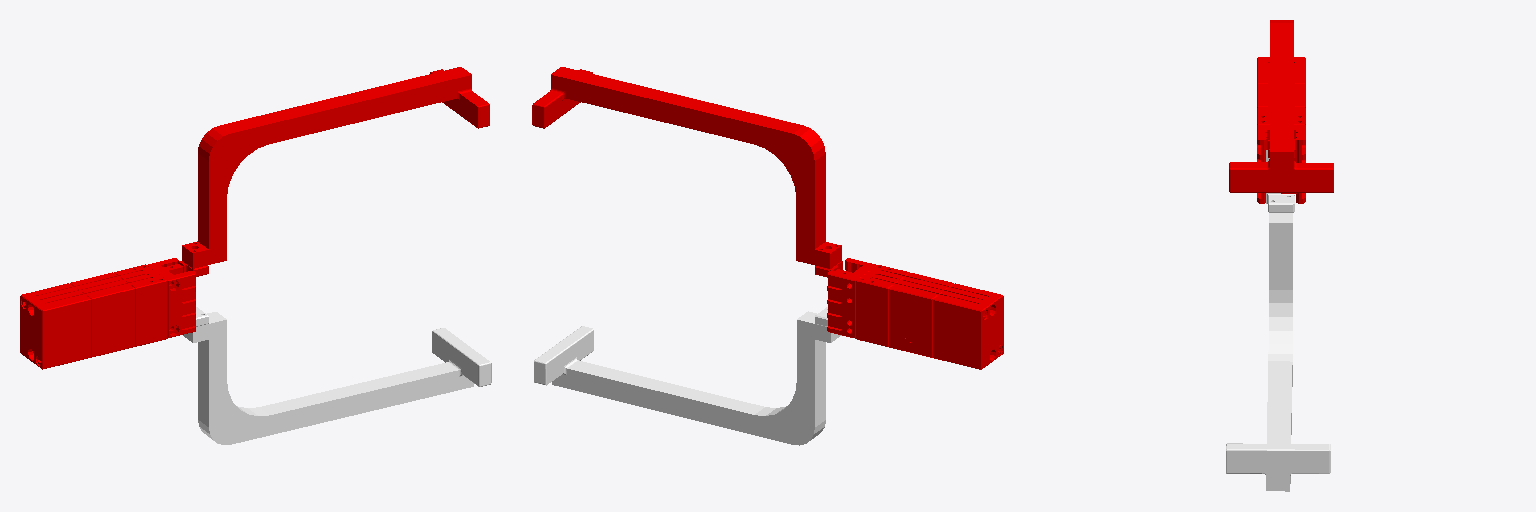
URDF robot description (kuka_kr3r540):
<?xml version="1.0" ?>
<!-- =================================================================================== -->
<!-- |    This document was autogenerated by xacro from kr3r540.xacro                  | -->
<!-- |    EDITING THIS FILE BY HAND IS NOT RECOMMENDED                                 | -->
<!-- =================================================================================== -->
<robot name="kuka_kr3r540" xmlns:controller="http://playerstage.sourceforge.net/gazebo/xmlschema/#controller" xmlns:interface="http://playerstage.sourceforge.net/gazebo/xmlschema/#interface" xmlns:sensor="http://playerstage.sourceforge.net/gazebo/xmlschema/#sensor">
    <!-- colours based on RAL values given in "FAQ - Colours of robot and robot
       controller", version "KUKA.Tifs | 2010-01-21 |YM| DefaultColorsRobotAndController.doc",
       downloaded 2015-07-18 from
       http://www.kuka.be/main/cservice/faqs/hardware/DefaultColorsRobotAndController.pdf

       all RAL colours converted using http://www.visual-graphics.de/en/customer-care/ral-colours
  -->
    <link name="base_link">
        <visual>
            <origin rpy="0 0 0" xyz="0 0 0" />
            <geometry>
                <mesh filename="package://kuka_kr3_support/meshes/kr3r540/visual/base_link.stl" />
            </geometry>
            <material name="">
                <color rgba="0.5058823529411764 0.47058823529411764 0.38823529411764707 1.0" />
            </material>
        </visual>
        <collision>
            <origin rpy="0 0 0" xyz="0 0 0" />
            <geometry>
                <mesh filename="package://kuka_kr3_support/meshes/kr3r540/collision/base_link.stl" />
            </geometry>
            <inertial>
                <origin rpy="0 0 0" xyz="0 0 0" />
                <mass value="8.45" />
                <inertia ixx="0.09" ixy="0.0" ixz="-0.02" iyy="0.11" iyz="0.0" izz="0.05" />
            </inertial>
        </collision>
        <inertial>
            <mass value="0.1" />
            <origin xyz="0 0 0" rpy="0 0 0" />
            <inertia ixx="0.03" iyy="0.03" izz="0.03" ixy="0.0" ixz="0.0" iyz="0.0" />
        </inertial>
    </link>
    <link name="link_1">
        <visual>
            <origin rpy="0 0 0" xyz="0 0 0" />
            <geometry>
                <mesh filename="package://kuka_kr3_support/meshes/kr3r540/visual/link_1.stl" />
            </geometry>
            <material name="">
                <color rgba="0.9450980392156862 0.9254901960784314 1.0 1.0" />
            </material>
        </visual>
        <collision>
            <origin rpy="0 0 0" xyz="0 0 0" />
            <geometry>
                <mesh filename="package://kuka_kr3_support/meshes/kr3r540/collision/link_1.stl" />
            </geometry>
            <inertial>
                <origin rpy="0 0 0" xyz="0 0 0" />
                <mass value="4.46" />
                <inertia ixx="0.24" ixy="0.0" ixz="0.0" iyy="0.24" iyz="0.0" izz="0.02" />
            </inertial>
        </collision>
        <inertial>
            <mass value="0.1" />
            <origin xyz="0 0 0" rpy="0 0 0" />
            <inertia ixx="0.03" iyy="0.03" izz="0.03" ixy="0.0" ixz="0.0" iyz="0.0" />
        </inertial>
    </link>
    <link name="link_2">
        <visual>
            <origin rpy="0 0 0" xyz="0 0 0" />
            <geometry>
                <mesh filename="package://kuka_kr3_support/meshes/kr3r540/visual/link_2.stl" />
            </geometry>
            <material name="">
                <color rgba="0.9450980392156862 0.9254901960784314 1.0 1.0" />
            </material>
        </visual>
        <collision>
            <origin rpy="0 0 0" xyz="0 0 0" />
            <geometry>
                <mesh filename="package://kuka_kr3_support/meshes/kr3r540/collision/link_2.stl" />
            </geometry>
            <inertial>
                <origin rpy="0 0 0" xyz="0 0 0" />
                <mass value="9.11" />
                <inertia ixx="0.065" ixy="0.0" ixz="0.0" iyy="0.065" iyz="0.0" izz="0.02" />
            </inertial>
        </collision>
        <inertial>
            <mass value="0.1" />
            <origin xyz="0 0 0" rpy="0 0 0" />
            <inertia ixx="0.03" iyy="0.03" izz="0.03" ixy="0.0" ixz="0.0" iyz="0.0" />
        </inertial>
    </link>
    <link name="link_3">
        <visual>
            <origin rpy="0 0 0" xyz="0 0 0" />
            <geometry>
                <mesh filename="package://kuka_kr3_support/meshes/kr3r540/visual/link_3.stl" />
            </geometry>
            <material name="">
                <color rgba="0.9450980392156862 0.9254901960784314 1.0 1.0" />
            </material>
        </visual>
        <collision>
            <origin rpy="0 0 0" xyz="0 0 0" />
            <geometry>
                <mesh filename="package://kuka_kr3_support/meshes/kr3r540/collision/link_3.stl" />
            </geometry>
            <inertial>
                <origin rpy="0 0 0" xyz="0 0 0" />
                <mass value="2.2" />
                <inertia ixx="0.64" ixy="0.0" ixz="0.05" iyy="0.64" iyz="0.0" izz="0.01" />
            </inertial>
        </collision>
        <inertial>
            <mass value="0.1" />
            <origin xyz="0 0 0" rpy="0 0 0" />
            <inertia ixx="0.03" iyy="0.03" izz="0.03" ixy="0.0" ixz="0.0" iyz="0.0" />
        </inertial>
    </link>
    <link name="link_4">
        <visual>
            <origin rpy="0 0 0" xyz="0 0 0" />
            <geometry>
                <mesh filename="package://kuka_kr3_support/meshes/kr3r540/visual/link_4.stl" />
            </geometry>
            <material name="">
                <color rgba="0.9450980392156862 0.9254901960784314 1.0 1.0" />
            </material>
        </visual>
        <collision>
            <origin rpy="0 0 0" xyz="0 0 0" />
            <geometry>
                <mesh filename="package://kuka_kr3_support/meshes/kr3r540/collision/link_4.stl" />
            </geometry>
            <inertial>
                <origin rpy="0 0 0" xyz="0 0 0" />
                <mass value="1.5" />
                <inertia ixx="0.45" ixy="0.0" ixz="0.15" iyy="0.5" iyz="0.0" izz="0.05" />
            </inertial>
        </collision>
        <inertial>
            <mass value="0.1" />
            <origin xyz="0 0 0" rpy="0 0 0" />
            <inertia ixx="0.03" iyy="0.03" izz="0.03" ixy="0.0" ixz="0.0" iyz="0.0" />
        </inertial>
    </link>
    <link name="link_5">
        <visual>
            <origin rpy="0 0 0" xyz="0 0 0" />
            <geometry>
                <mesh filename="package://kuka_kr3_support/meshes/kr3r540/visual/link_5.stl" />
            </geometry>
            <material name="">
                <color rgba="0.9450980392156862 0.9254901960784314 1.0 1.0" />
            </material>
        </visual>
        <collision>
            <origin rpy="0 0 0" xyz="0 0 0" />
            <geometry>
                <mesh filename="package://kuka_kr3_support/meshes/kr3r540/collision/link_5.stl" />
            </geometry>
            <inertial>
                <origin rpy="0 0 0" xyz="0 0 0" />
                <mass value="0.75" />
                <inertia ixx="0.23" ixy="0.0" ixz="0.1" iyy="0.28" iyz="0.0" izz="0.05" />
            </inertial>
        </collision>
        <inertial>
            <mass value="0.1" />
            <origin xyz="0 0 0" rpy="0 0 0" />
            <inertia ixx="0.03" iyy="0.03" izz="0.03" ixy="0.0" ixz="0.0" iyz="0.0" />
        </inertial>
    </link>
    <link name="link_6">
        <visual>
            <origin rpy="0 0 0" xyz="0 0 0" />
            <geometry>
                <mesh filename="package://kuka_kr3_support/meshes/kr3r540/visual/link_6.stl" />
            </geometry>
            <material name="">
                <color rgba="0.5058823529411764 0.47058823529411764 0.38823529411764707 1.0" />
            </material>
        </visual>
        <collision>
            <origin rpy="0 0 0" xyz="0 0 0" />
            <geometry>
                <mesh filename="package://kuka_kr3_support/meshes/kr3r540/collision/link_6.stl" />
            </geometry>
        </collision>
        <inertial>
            <origin rpy="0 0 0" xyz="0 0 0" />
            <mass value="0.026" />
            <inertia ixx="0.01" ixy="0.0" ixz="0.0" iyy="0.01" iyz="0" izz="0" />
        </inertial>
    </link>
    <!-- Following REP199, this frame shall be use to attach EEF or other equipment -->
    <link name="flange" />
    <joint name="joint_a1" type="revolute">
        <origin rpy="0 0 0" xyz="0 0 0.345" />
        <parent link="base_link" />
        <child link="link_1" />
        <axis xyz="0 0 -1" />
        <limit effort="100" lower="-2.9670597283903604" upper="2.9670597283903604" velocity="9.250245035569947" />
    </joint>
    <joint name="joint_a2" type="revolute">
        <origin rpy="0 0 0" xyz="0.020 0 0" />
        <parent link="link_1" />
        <child link="link_2" />
        <axis xyz="0 1 0" />
        <limit effort="100" lower="-2.9670597283903604" upper="0.8726646259971648" velocity="9.232791743050003" />
    </joint>
    <joint name="joint_a3" type="revolute">
        <origin rpy="0 0 0" xyz="0.260 0 0" />
        <parent link="link_2" />
        <child link="link_3" />
        <axis xyz="0 1 0" />
        <limit effort="100" lower="-1.9198621771937625" upper="2.705260340591211" velocity="9.389871375729493" />
    </joint>
    <joint name="joint_a4" type="revolute">
        <origin rpy="0 0 0" xyz="0 0 0.020" />
        <parent link="link_3" />
        <child link="link_4" />
        <axis xyz="-1 0 0" />
        <limit effort="100" lower="-3.0543261909900767" upper="3.0543261909900767" velocity="10.471975511965978" />
    </joint>
    <joint name="joint_a5" type="revolute">
        <origin rpy="0 0 0" xyz="0.260 0 0" />
        <parent link="link_4" />
        <child link="link_5" />
        <axis xyz="0 1 0" />
        <limit effort="100" lower="-2.0943951023931953" upper="2.0943951023931953" velocity="10.471975511965978" />
    </joint>
    <joint name="joint_a6" type="revolute">
        <origin rpy="0 0 0" xyz="0.075 0 0" />
        <parent link="link_5" />
        <child link="link_6" />
        <axis xyz="-1 0 0" />
        <limit effort="100" lower="-6.1086523819801535" upper="6.1086523819801535" velocity="13.962634015954636" />
    </joint>
    <joint name="joint_a6-tool0" type="fixed">
        <parent link="link_6" />
        <child link="flange" />
        <origin rpy="0 0 0" xyz="0 0 0" />
    </joint>
    <!-- ROS base_link to KUKA $ROBROOT coordinate system transform -->
    <link name="base" />
    <joint name="base_link-base" type="fixed">
        <origin rpy="0 0 0" xyz="0 0 0" />
        <parent link="base_link" />
        <child link="base" />
    </joint>
    <!-- This frame corresponds to the $TOOL coordinate system in KUKA KRC controllers -->
    <link name="tool0" />
    <joint name="flange-tool0" type="fixed">
        <parent link="flange" />
        <child link="tool0" />
        <origin rpy="0 1.5707963267948966 0" xyz="0 0 0" />
    </joint>
    <joint name="gripper_anterior_gripper_joint" type="fixed">
        <origin rpy="0 0 0" xyz="0 0 0" />
        <parent link="tool0" />
        <child link="base_link_gripper" />
    </joint>
    <!-- BASE LINK -->
    <link name="base_link_gripper">
        <inertial>
            <origin xyz="-0.000798709905497759 0.0330041725900681 0.000181924965941612" rpy="0 0 0" />
            <mass value="3.0843E-05" />
            <inertia ixx="1.2175E-08" ixy="-1.7683E-12" ixz="3.118E-13" iyy="2.6196E-09" iyz="6.348E-12" izz="1.3073E-08" />
        </inertial>
        <visual>
            <origin xyz="0 0 0" rpy="0 0 0" />
            <geometry>
                <mesh filename="package://schunk_25nnb/meshes/base_link.STL" />
            </geometry>
            <material name="">
                <color rgba="1 0 0 1" />
            </material>
        </visual>
        <collision>
            <origin xyz="0 0 0" rpy="0 0 0" />
            <geometry>
                <mesh filename="package://schunk_25nnb/meshes/base_link.STL" />
            </geometry>
        </collision>
    </link>
    <link name="left_link">
        <inertial>
            <origin xyz="0.0054865 -0.0099792 0.0019878" rpy="0 0 0" />
            <mass value="9.1881E-07" />
            <inertia ixx="2.3947E-11" ixy="-1.4195E-11" ixz="4.575E-12" iyy="4.2053E-11" iyz="4.362E-12" izz="5.6785E-11" />
        </inertial>
        <visual>
            <origin xyz="0 0 0" rpy="0 0 0" />
            <geometry>
                <mesh filename="package://schunk_25nnb/meshes/left_link.STL" />
            </geometry>
            <material name="">
                <color rgba="1 0 0 1" />
            </material>
        </visual>
        <collision>
            <origin xyz="0 0 0" rpy="0 0 0" />
            <geometry>
                <mesh filename="package://schunk_25nnb/meshes/left_link.STL" />
            </geometry>
        </collision>
    </link>
    <joint name="joint_left" type="prismatic">
        <origin xyz="0 -8.2944E-05 0.08056" rpy="1.5708 0 3.1416" />
        <parent link="base_link_gripper" />
        <child link="left_link" />
        <axis xyz="1 0 0" />
        <limit lower="-0.0047" upper="0.000" effort="20.00001" velocity="2.00001" />
    </joint>
    <link name="right_link">
        <inertial>
            <origin xyz="0.0039401 -0.0099792 0.0021878" rpy="0 0 0" />
            <mass value="9.1881E-07" />
            <inertia ixx="2.3947E-11" ixy="-1.4195E-11" ixz="4.575E-12" iyy="4.2053E-11" iyz="4.362E-12" izz="5.6785E-11" />
        </inertial>
        <visual>
            <origin xyz="0 0 0" rpy="0 0 0" />
            <geometry>
                <mesh filename="package://schunk_25nnb/meshes/right_link.STL" />
            </geometry>
            <material name="">
                <color rgba="1 1 1 1" />
            </material>
        </visual>
        <collision>
            <origin xyz="0 0 0" rpy="0 0 0" />
            <geometry>
                <mesh filename="package://schunk_25nnb/meshes/right_link.STL" />
            </geometry>
        </collision>
    </link>
    <joint name="joint_right" type="prismatic">
        <origin xyz="0 -8.2944E-05 0.08056" rpy="1.5708 0 0" />
        <parent link="base_link_gripper" />
        <child link="right_link" />
        <axis xyz="1 0 0" />
        <limit lower="-0.0047" upper="0.00001" effort="20.00001" velocity="2.00001" />
    </joint>
    <transmission name="trans_joint_a1">
        <type>transmission_interface/SimpleTransmission</type>
        <joint name="joint_a1">
            <hardwareInterface>hardware_interface/VelocityJointInterface</hardwareInterface>
        </joint>
        <actuator name="joint_a1_motor">
            <hardwareInterface>hardware_interface/VelocityJointInterface</hardwareInterface>
            <mechanicalReduction>1</mechanicalReduction>
        </actuator>
    </transmission>
    <transmission name="trans_joint_a2">
        <type>transmission_interface/SimpleTransmission</type>
        <joint name="joint_a2">
            <hardwareInterface>hardware_interface/VelocityJointInterface</hardwareInterface>
        </joint>
        <actuator name="joint_a2_motor">
            <hardwareInterface>hardware_interface/VelocityJointInterface</hardwareInterface>
            <mechanicalReduction>1</mechanicalReduction>
        </actuator>
    </transmission>
    <transmission name="trans_joint_a3">
        <type>transmission_interface/SimpleTransmission</type>
        <joint name="joint_a3">
            <hardwareInterface>hardware_interface/VelocityJointInterface</hardwareInterface>
        </joint>
        <actuator name="joint_a3_motor">
            <hardwareInterface>hardware_interface/VelocityJointInterface</hardwareInterface>
            <mechanicalReduction>1</mechanicalReduction>
        </actuator>
    </transmission>
    <transmission name="trans_joint_a4">
        <type>transmission_interface/SimpleTransmission</type>
        <joint name="joint_a4">
            <hardwareInterface>hardware_interface/VelocityJointInterface</hardwareInterface>
        </joint>
        <actuator name="joint_a4_motor">
            <hardwareInterface>hardware_interface/VelocityJointInterface</hardwareInterface>
            <mechanicalReduction>1</mechanicalReduction>
        </actuator>
    </transmission>
    <transmission name="trans_joint_a5">
        <type>transmission_interface/SimpleTransmission</type>
        <joint name="joint_a5">
            <hardwareInterface>hardware_interface/VelocityJointInterface</hardwareInterface>
        </joint>
        <actuator name="joint_a5_motor">
            <hardwareInterface>hardware_interface/VelocityJointInterface</hardwareInterface>
            <mechanicalReduction>1</mechanicalReduction>
        </actuator>
    </transmission>
    <transmission name="trans_joint_a6">
        <type>transmission_interface/SimpleTransmission</type>
        <joint name="joint_a6">
            <hardwareInterface>hardware_interface/VelocityJointInterface</hardwareInterface>
        </joint>
        <actuator name="joint_a6_motor">
            <hardwareInterface>hardware_interface/VelocityJointInterface</hardwareInterface>
            <mechanicalReduction>1</mechanicalReduction>
        </actuator>
    </transmission>
    <transmission name="trans_joint_left">
        <type>transmission_interface/SimpleTransmission</type>
        <joint name="joint_left">
            <hardwareInterface>hardware_interface/VelocityJointInterface</hardwareInterface>
        </joint>
        <actuator name="joint_left_motor">
            <hardwareInterface>hardware_interface/VelocityJointInterface</hardwareInterface>
            <mechanicalReduction>1</mechanicalReduction>
        </actuator>
    </transmission>
    <transmission name="trans_joint_right">
        <type>transmission_interface/SimpleTransmission</type>
        <joint name="joint_right">
            <hardwareInterface>hardware_interface/VelocityJointInterface</hardwareInterface>
        </joint>
        <actuator name="joint_right_motor">
            <hardwareInterface>hardware_interface/VelocityJointInterface</hardwareInterface>
            <mechanicalReduction>1</mechanicalReduction>
        </actuator>
    </transmission>
    <gazebo>
        <plugin name="gazebo_ros_control">
            <robotNamespace>/</robotNamespace>
        </plugin>
    </gazebo>
</robot>

--- What the picture shows (computed from the rendered views, not written in the file) ---
Views: 3 orthographic renders of the robot side by side, from view 1: azimuth 30°, elevation 25°; view 2: azimuth 150°, elevation 25°; view 3: azimuth 270°, elevation 25°.
Robot: kuka_kr3r540 — 13 links, 12 joints (6 revolute, 2 prismatic, 4 fixed); root link base_link; default pose: all joints at 0.
Visible links, largest first — view 1: left_link, base_link_gripper, right_link; view 2: left_link, base_link_gripper, right_link; view 3: right_link, left_link, base_link_gripper.
Boxes of the visible links, x1=… form: left_link: x1=163, y1=67, x2=489, y2=276; base_link_gripper: x1=20, y1=258, x2=195, y2=369; right_link: x1=183, y1=307, x2=491, y2=444; left_link: x1=532, y1=67, x2=851, y2=277; base_link_gripper: x1=827, y1=258, x2=1003, y2=369; right_link: x1=534, y1=270, x2=845, y2=445; right_link: x1=1226, y1=150, x2=1330, y2=491; left_link: x1=1229, y1=20, x2=1333, y2=193; base_link_gripper: x1=1257, y1=57, x2=1305, y2=203.
Bounding box of the posed robot: 0.2043 × 0.0403 × 0.1392 m (x, y, z).
3 mesh visuals loaded from 10 distinct referenced files (3 binary STL); not drawn: 7 (reference not matched to a file when rendering).